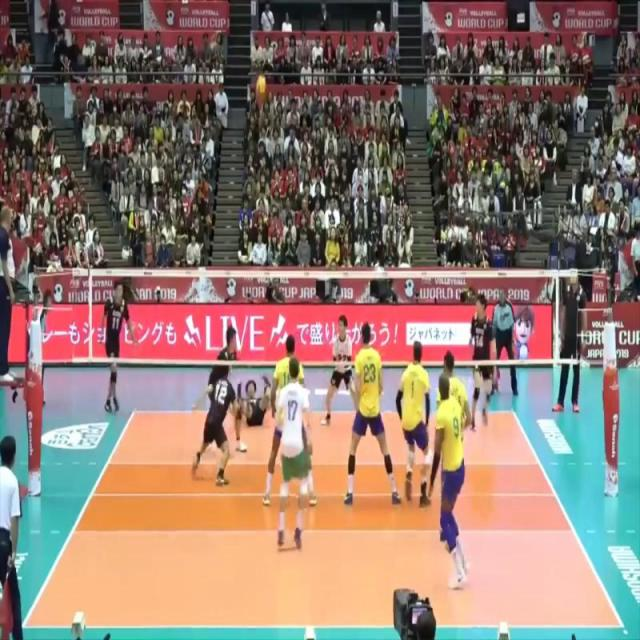volleyball: (253, 70, 269, 96)
